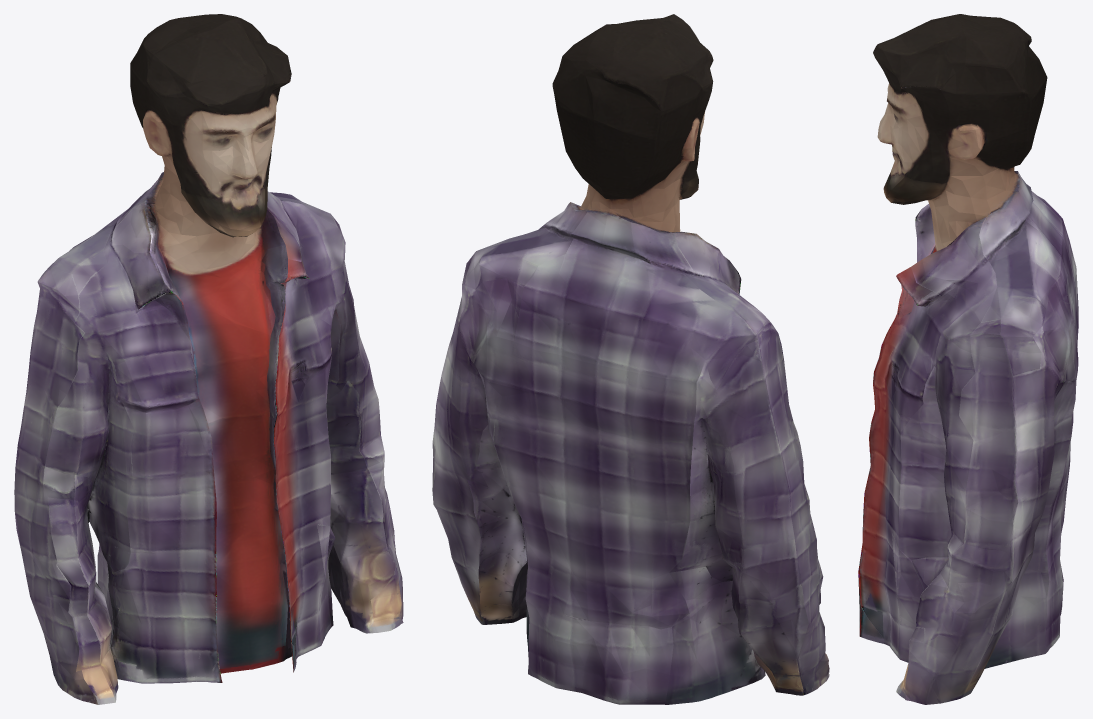
The model's file is step_3.glb.
The picture shows the model from 3 angles, left to right: view 1: azimuth 30°, elevation 25°; view 2: azimuth 150°, elevation 25°; view 3: azimuth 270°, elevation 25°; orthographic projection. The views are drawn at different scales.
Visible parts, largest first — view 1: geometry_0; view 2: geometry_0; view 3: geometry_0.
Boxes of the visible parts, box(x1,y1,x2,y2) form: geometry_0: box(14, 14, 403, 704); geometry_0: box(432, 14, 829, 704); geometry_0: box(858, 14, 1078, 704).
Size of the model in its own units: 0.5031 by 0.8284 by 0.2748.
1 material, 1 textured.
